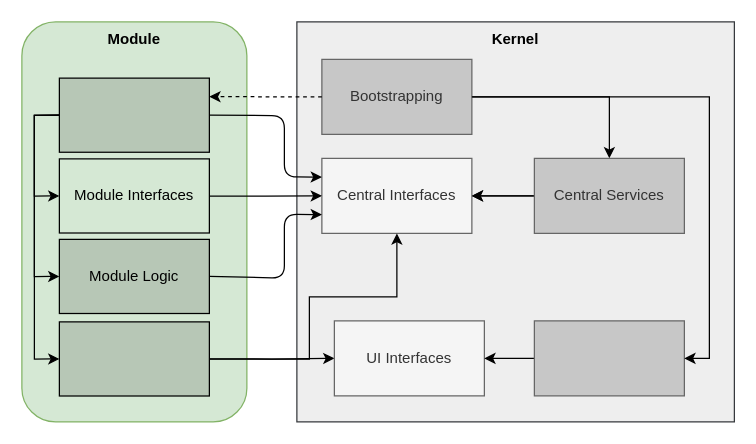
This 756x444 diagram has some shape labels left out. Here are the shapes that lost their labels. From the top down, the centre of each, then its label:
At [133,114]: "Module Root".
At [133,358]: "Module UI".
At [608,358]: "UI Services".
